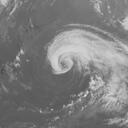cyclone: (45, 23, 127, 124)
